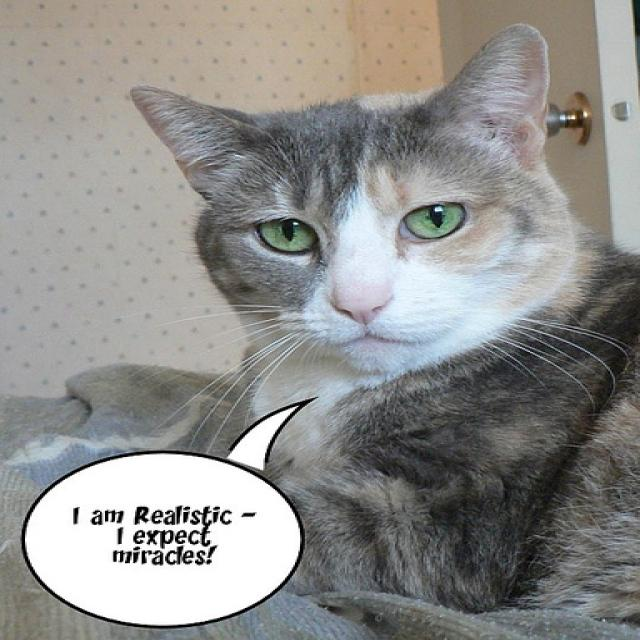cat: (128, 23, 639, 626)
